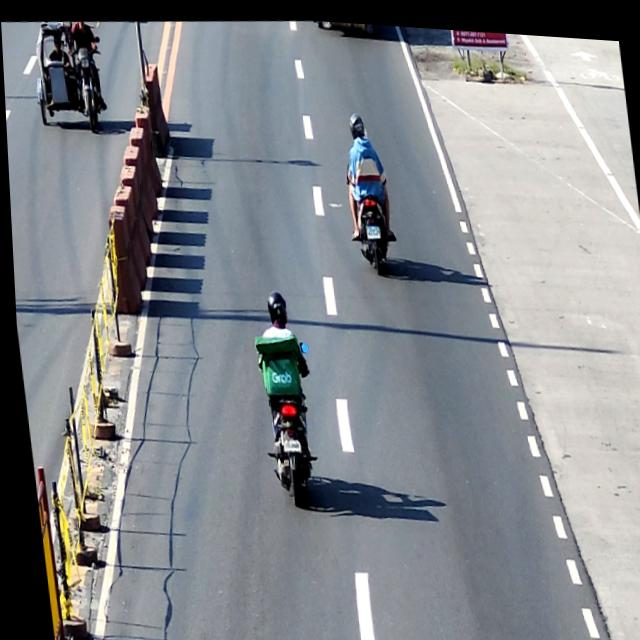License-Plate: (276, 433, 298, 451), (362, 219, 378, 233)
Motorcycle: (249, 330, 323, 504), (343, 144, 395, 273)
Tricycle: (26, 16, 108, 132)
